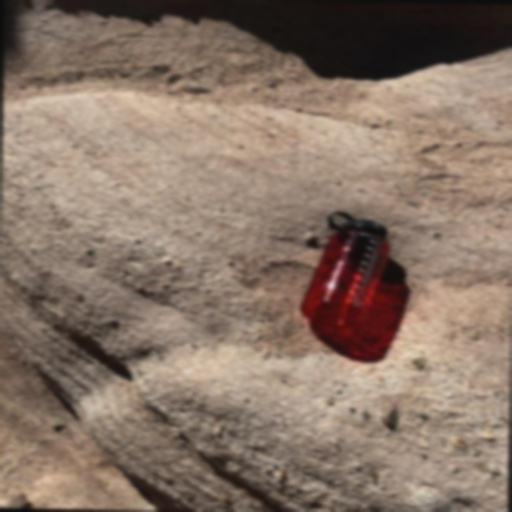bottle: (300, 210, 390, 330)
